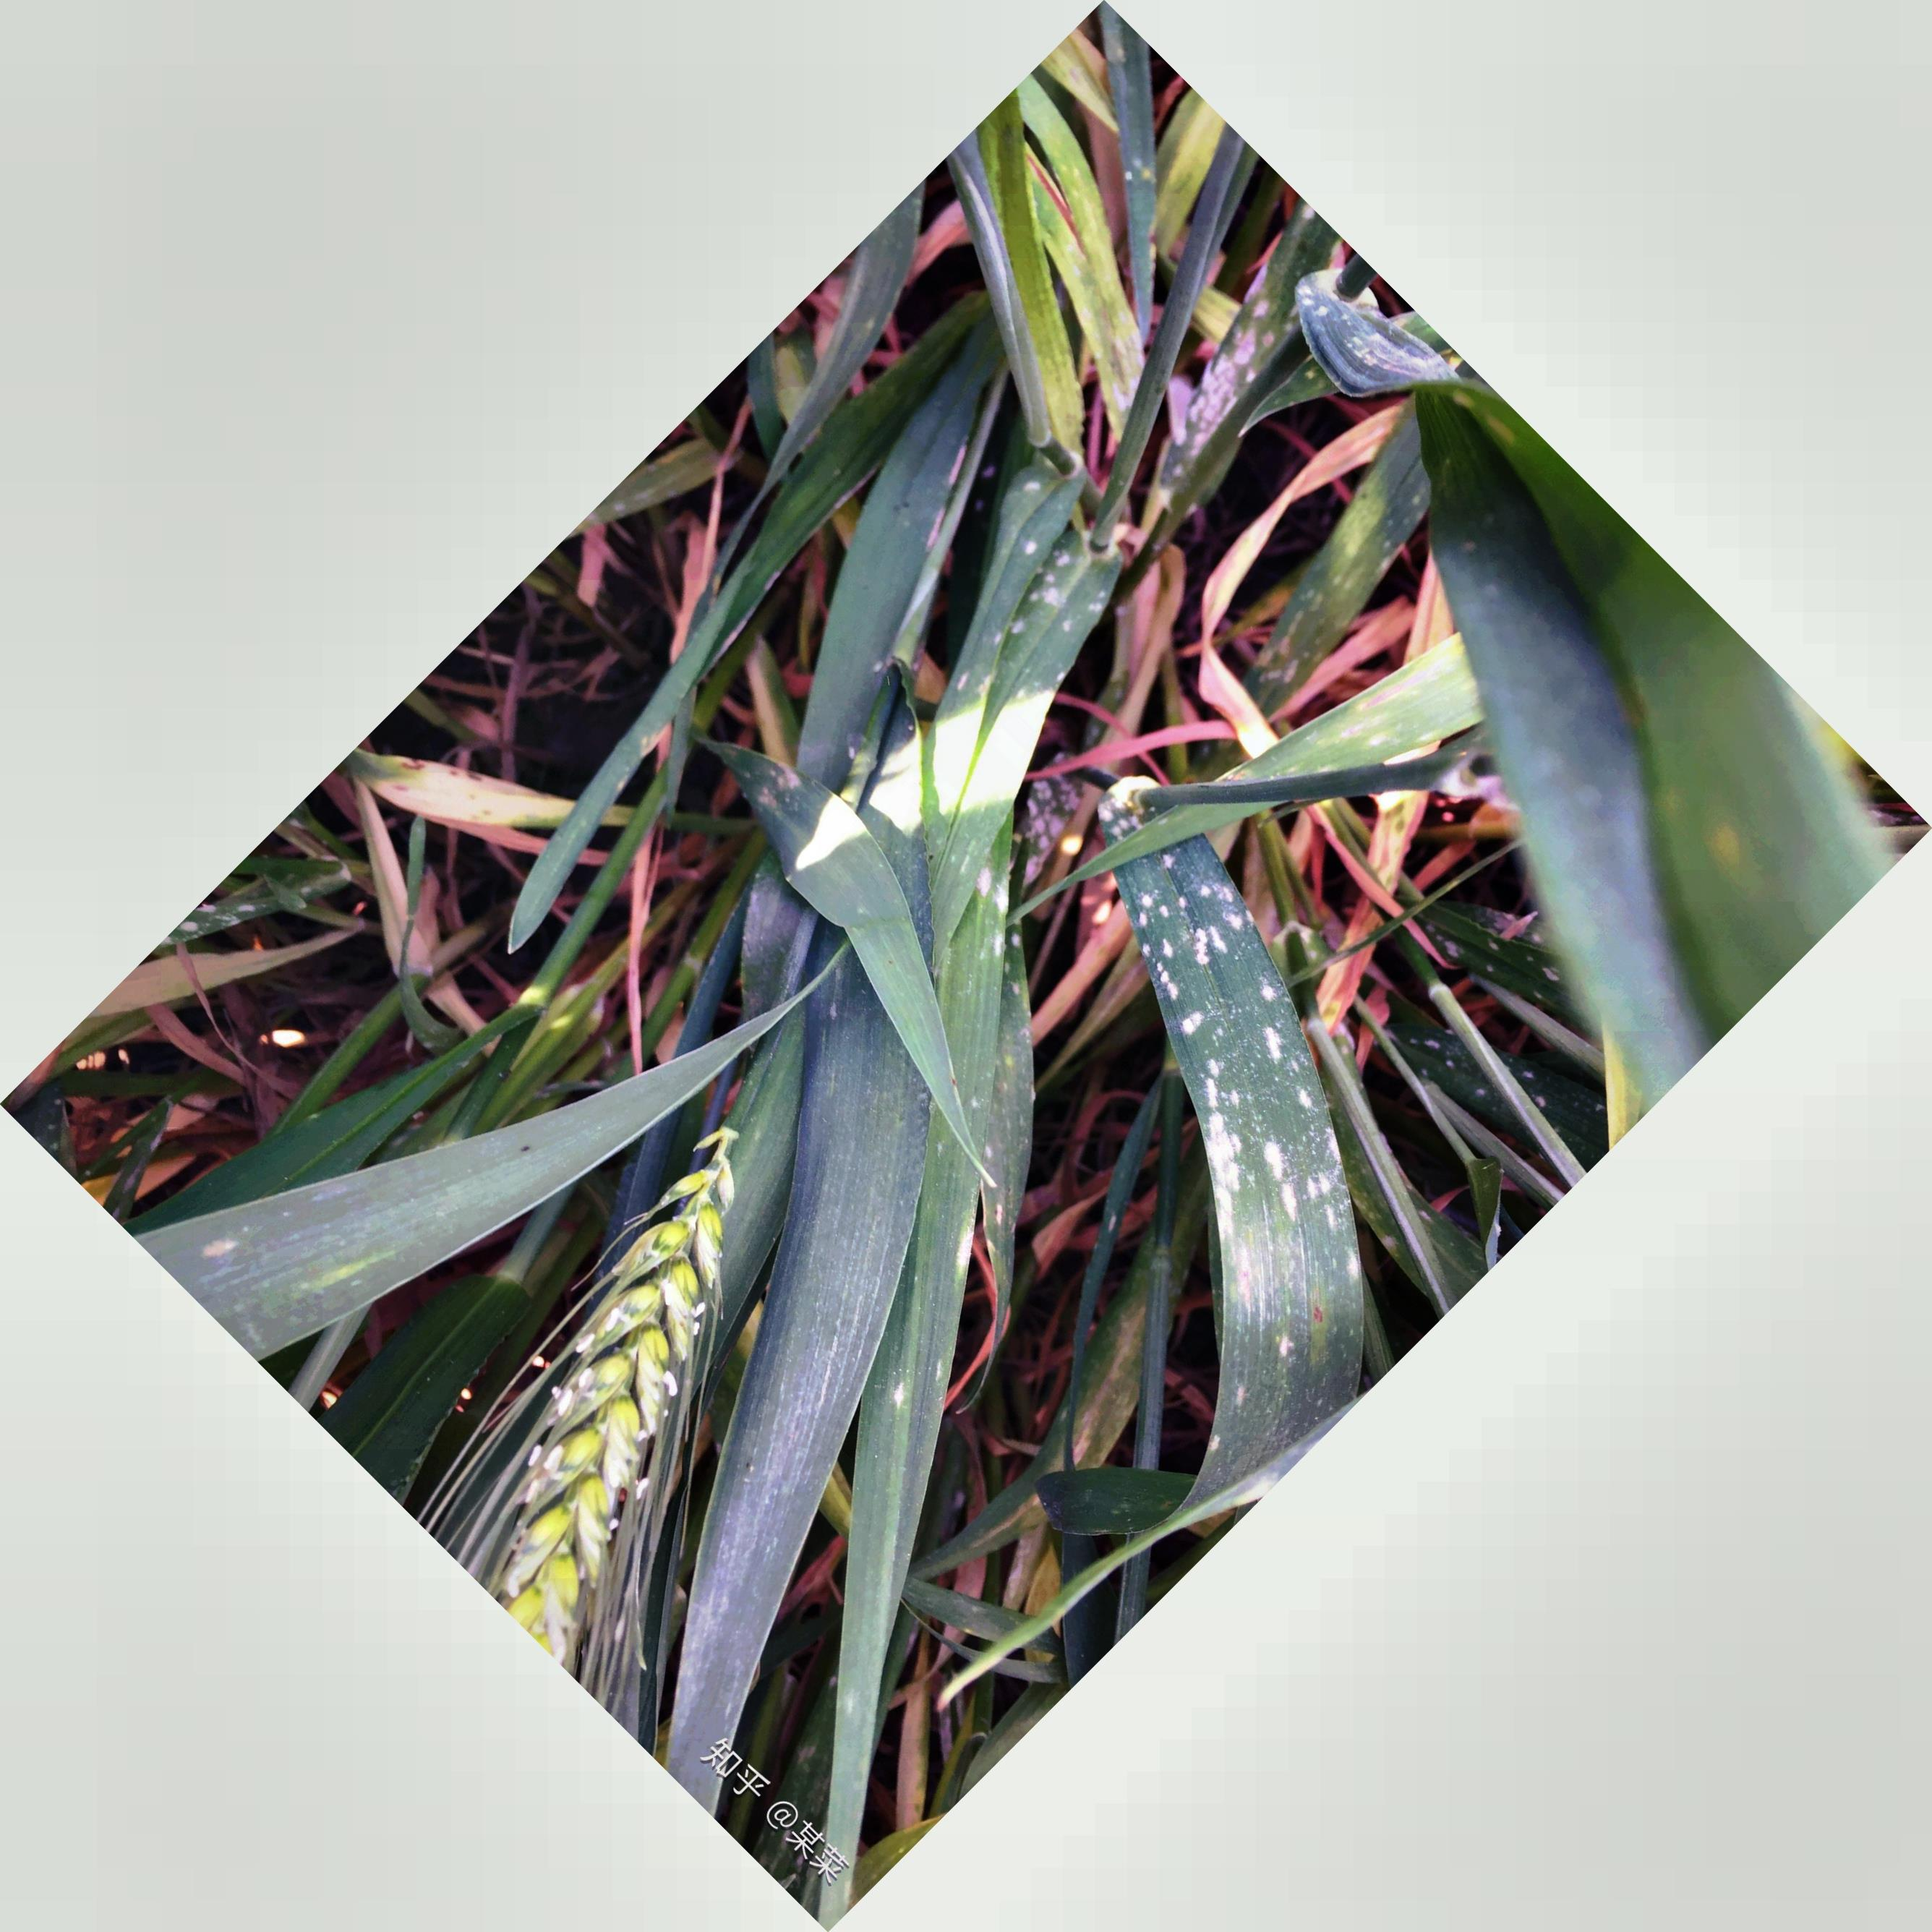Powdery Mildew: (1116, 844, 1376, 1263)
